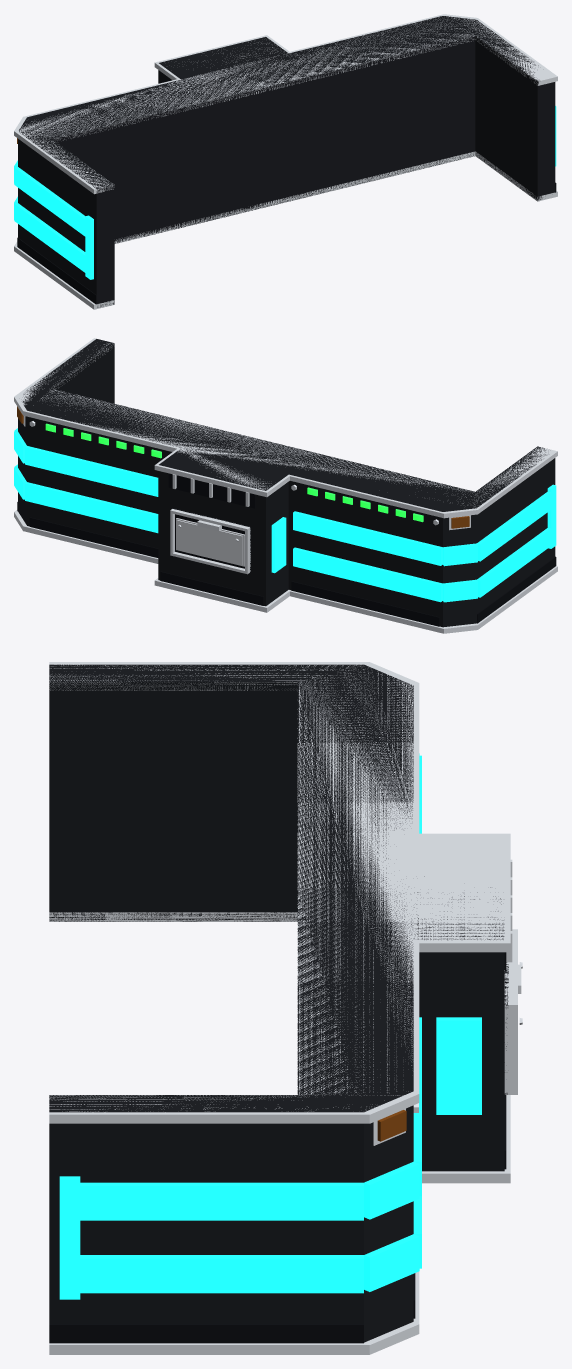
Rendered from fb_wrap_tower.glb.
3 views of the same model, one above another, from view 1: azimuth 30°, elevation 25°; view 2: azimuth 150°, elevation 25°; view 3: azimuth 270°, elevation 25° (orthographic). The views are drawn at different scales.
Parts seen in each view (by area): view 1: fb_wrap_tower_LMID_deco_body, fb_wrap_tower_LTOP_deco_body, fb_wrap_tower_TOP_chrome, fb_wrap_tower_TOP_deco_body, fb_wrap_tower_LBOT_deco_body, fb_wrap_tower_BOT_deco_body, fb_wrap_tower_LMID_deco_neon, fb_wrap_tower_BOT_chrome, fb_wrap_tower_BOT_deco_trim; view 2: fb_wrap_tower_LTOP_deco_body, fb_wrap_tower_LMID_deco_body, fb_wrap_tower_LMID_deco_neon, fb_wrap_tower_TOP_chrome, fb_wrap_tower_BOT_deco_trim, fb_wrap_tower_BOT_chrome, fb_wrap_tower_TOP_deco_body, fb_wrap_tower_BOT_deco_body, fb_wrap_tower_CEN_deco_plate, fb_wrap_tower_CEN_chrome, fb_wrap_tower_LBOT_deco_body, fb_wrap_tower_TOP_deco_led (+3 smaller); view 3: fb_wrap_tower_LTOP_deco_body, fb_wrap_tower_LMID_deco_body, fb_wrap_tower_TOP_chrome, fb_wrap_tower_LMID_deco_neon, fb_wrap_tower_BOT_deco_body, fb_wrap_tower_LBOT_deco_body, fb_wrap_tower_BOT_chrome, fb_wrap_tower_BOT_deco_trim, fb_wrap_tower_TOP_deco_body, fb_wrap_tower_MID_deco_neon, fb_wrap_tower_CEN_chrome.
Boxes of the visible parts, bbox=[...] form: fb_wrap_tower_LMID_deco_body: bbox=[18, 58, 555, 290]; fb_wrap_tower_LTOP_deco_body: bbox=[18, 16, 555, 211]; fb_wrap_tower_TOP_chrome: bbox=[14, 14, 557, 194]; fb_wrap_tower_TOP_deco_body: bbox=[18, 37, 555, 210]; fb_wrap_tower_LBOT_deco_body: bbox=[18, 138, 554, 305]; fb_wrap_tower_BOT_deco_body: bbox=[18, 137, 555, 307]; fb_wrap_tower_LMID_deco_neon: bbox=[14, 106, 556, 279]; fb_wrap_tower_BOT_chrome: bbox=[14, 151, 557, 309]; fb_wrap_tower_BOT_deco_trim: bbox=[17, 182, 556, 304]; fb_wrap_tower_LTOP_deco_body: bbox=[18, 339, 555, 534]; fb_wrap_tower_LMID_deco_body: bbox=[18, 366, 555, 613]; fb_wrap_tower_LMID_deco_neon: bbox=[14, 428, 556, 602]; fb_wrap_tower_TOP_chrome: bbox=[14, 338, 557, 530]; fb_wrap_tower_BOT_deco_trim: bbox=[17, 502, 556, 626]; fb_wrap_tower_BOT_chrome: bbox=[14, 510, 557, 633]; fb_wrap_tower_TOP_deco_body: bbox=[19, 344, 555, 534]; fb_wrap_tower_BOT_deco_body: bbox=[18, 498, 555, 626]; fb_wrap_tower_CEN_deco_plate: bbox=[177, 520, 242, 565]; fb_wrap_tower_CEN_chrome: bbox=[170, 509, 250, 574]; fb_wrap_tower_LBOT_deco_body: bbox=[18, 499, 555, 627]; fb_wrap_tower_TOP_deco_led: bbox=[45, 423, 423, 522]; fb_wrap_tower_LTOP_deco_body: bbox=[49, 664, 504, 1157]; fb_wrap_tower_LMID_deco_body: bbox=[49, 727, 504, 1314]; fb_wrap_tower_TOP_chrome: bbox=[49, 662, 512, 1145]; fb_wrap_tower_LMID_deco_neon: bbox=[59, 753, 421, 1299]; fb_wrap_tower_BOT_deco_body: bbox=[49, 884, 504, 1342]; fb_wrap_tower_LBOT_deco_body: bbox=[49, 884, 504, 1341]; fb_wrap_tower_BOT_chrome: bbox=[49, 912, 510, 1354]; fb_wrap_tower_BOT_deco_trim: bbox=[49, 1095, 506, 1343]; fb_wrap_tower_TOP_deco_body: bbox=[49, 685, 504, 1156]; fb_wrap_tower_MID_deco_neon: bbox=[436, 1017, 481, 1114]; fb_wrap_tower_CEN_chrome: bbox=[504, 929, 522, 1094].
Size of the model in its own units: 2.6 by 0.64 by 1.14.
